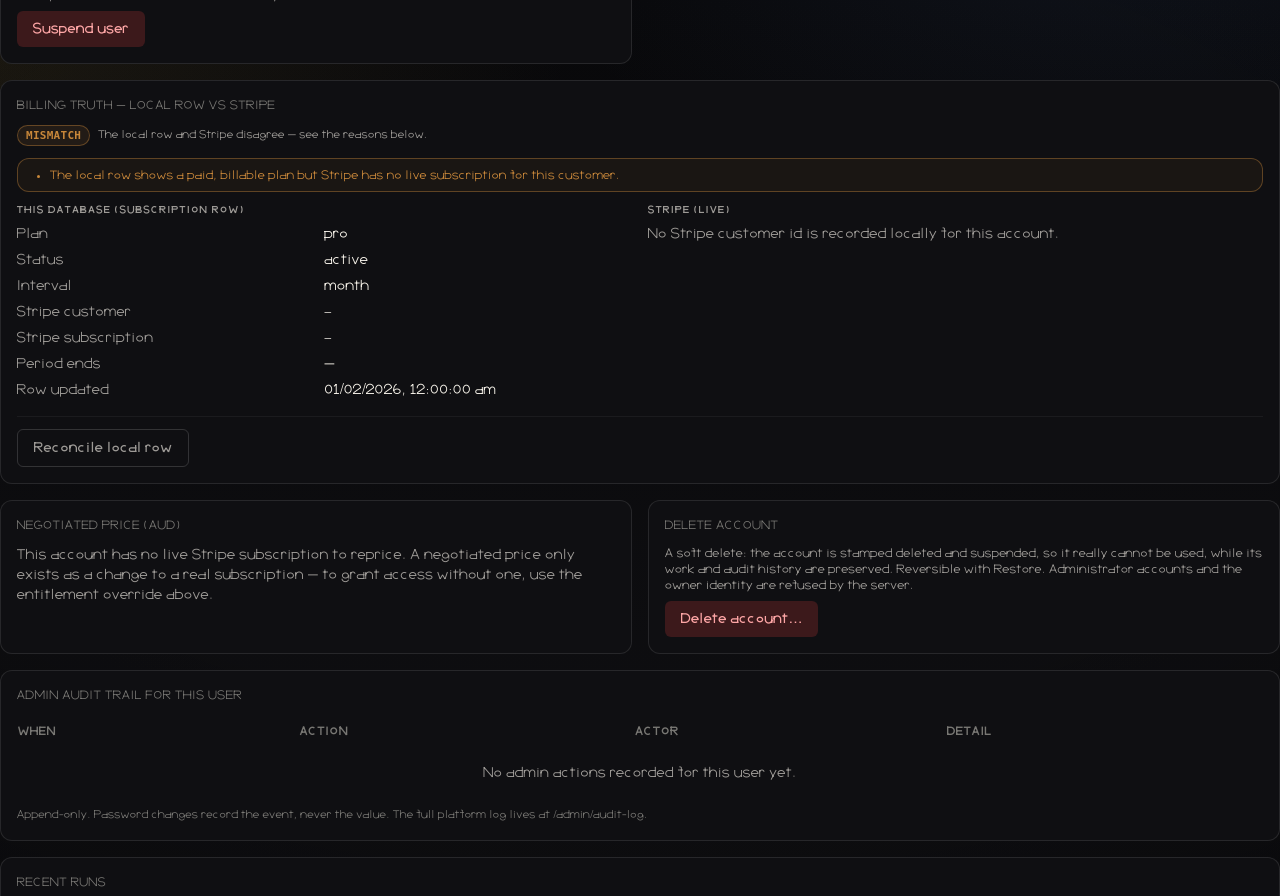
Scenario: reconcile-local (no Stripe mutation, ever) › surfaces the 'Stripe shows a live subscription' 409 as a refusal
The width and height of the screenshot is (1280, 896).
(page scrolled)
Click the button with test id "admin-billing-reconcile": x=103, y=448 [17,429,189,467]
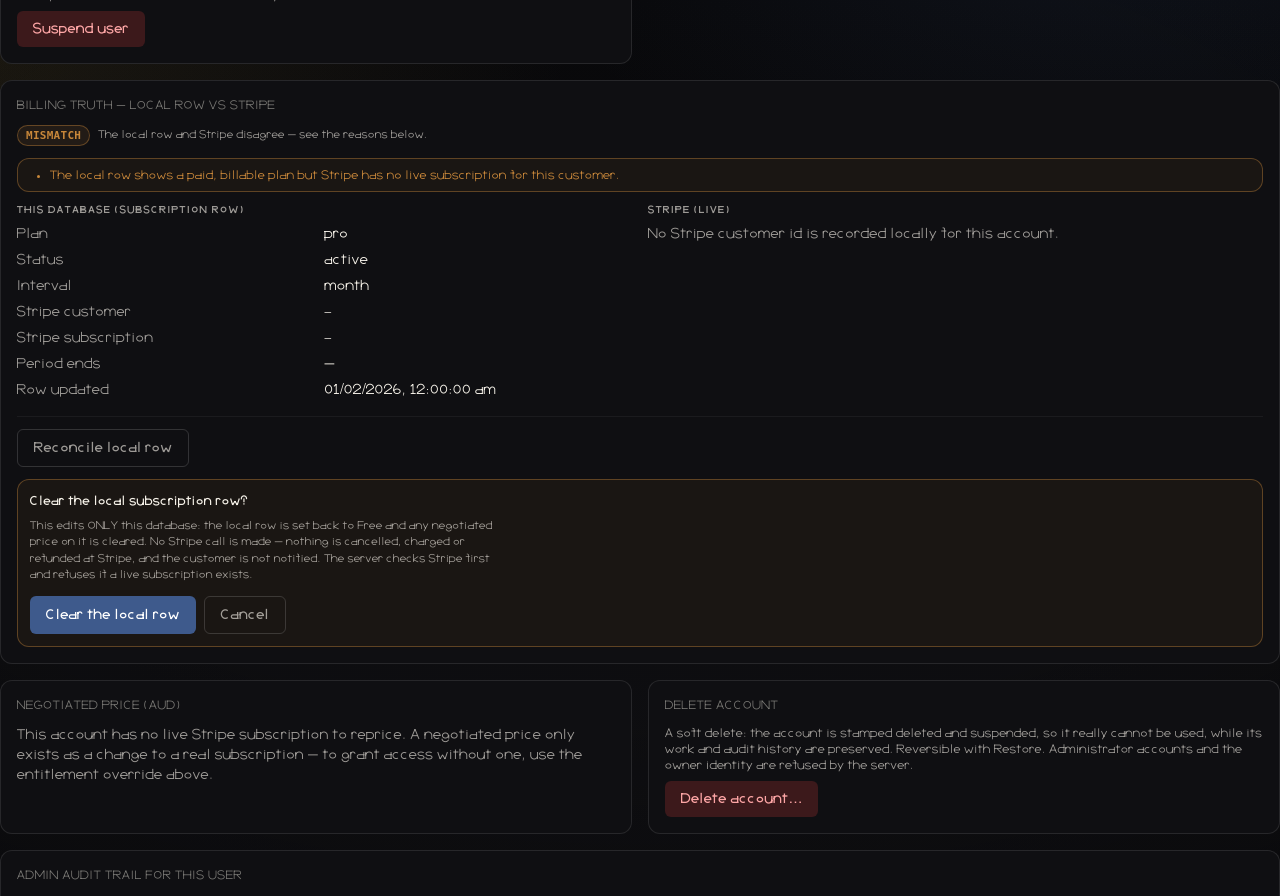
Click the button with test id "admin-billing-reconcile-confirm": x=113, y=615 [30,596,196,634]
(page scrolled)
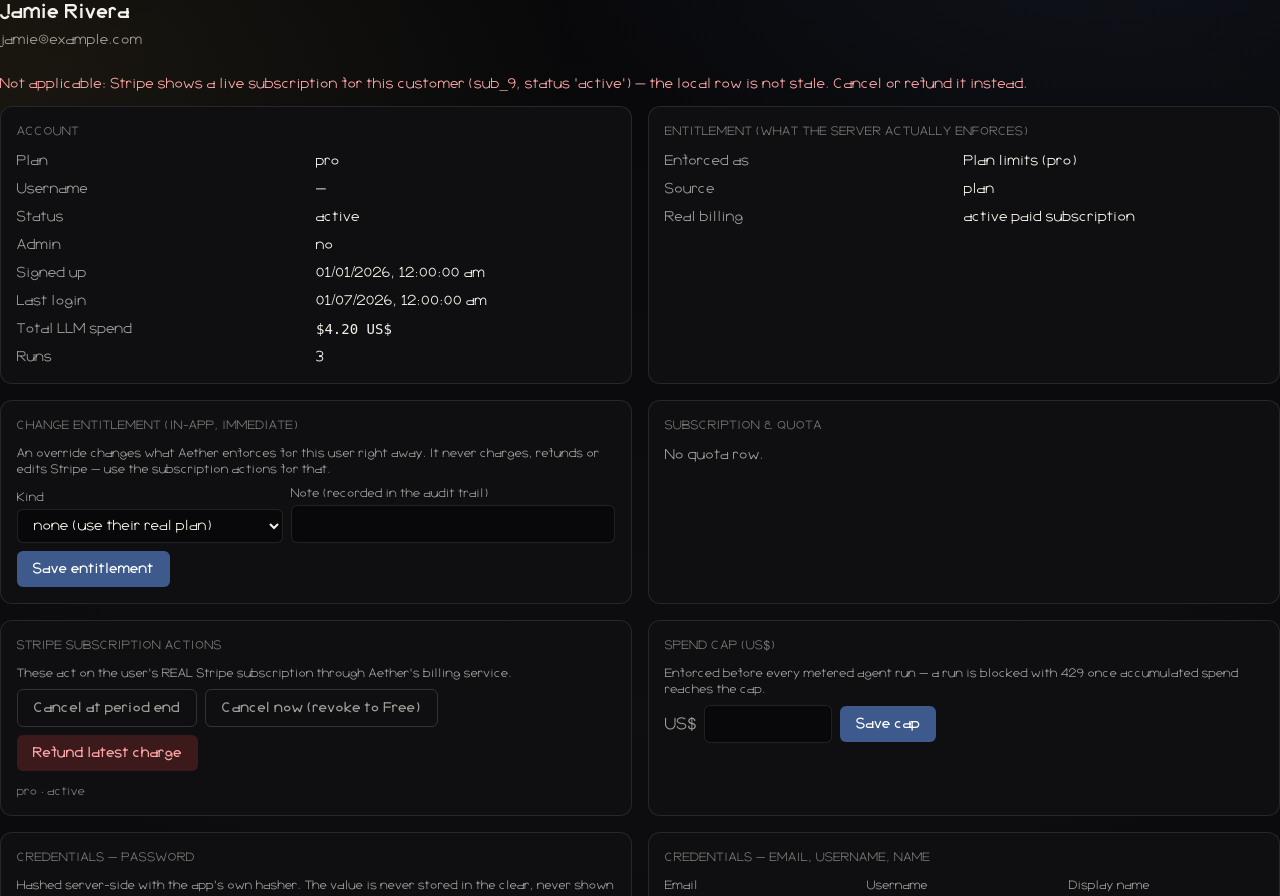
Result: the message with test id "admin-user-error" shows "Not applicable" at [0,77,1028,91]
Result: the message with test id "admin-user-error" shows "the local row is not stale" at [0,77,1028,91]
